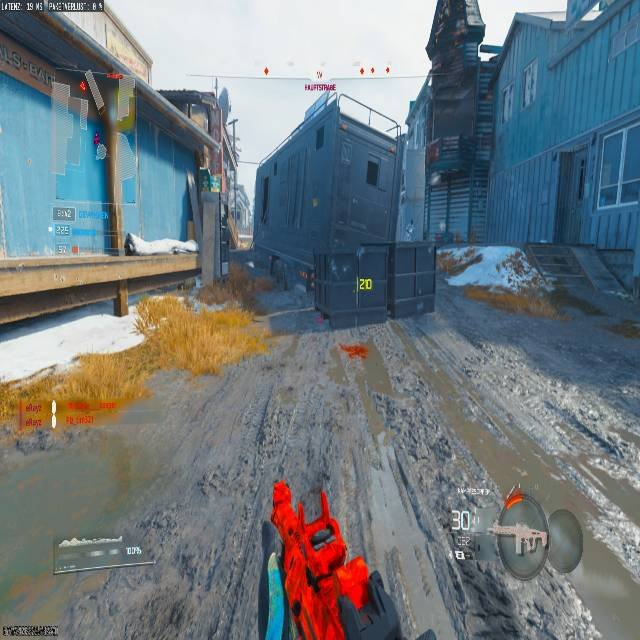player: (265, 484, 409, 639)
